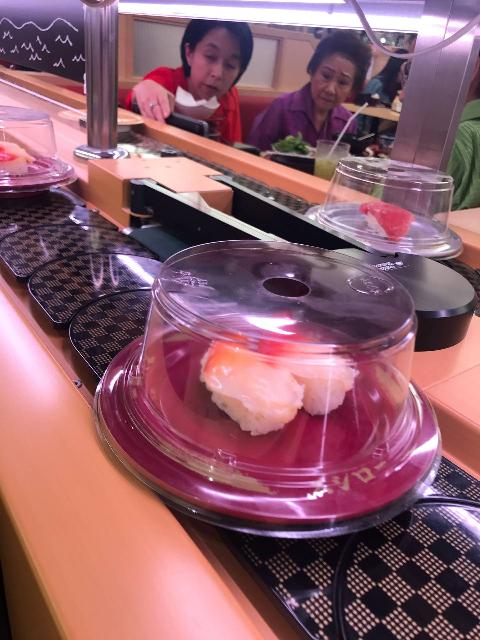janred: (110, 317, 442, 549), (0, 131, 78, 201)
janwhite: (322, 180, 472, 279)
